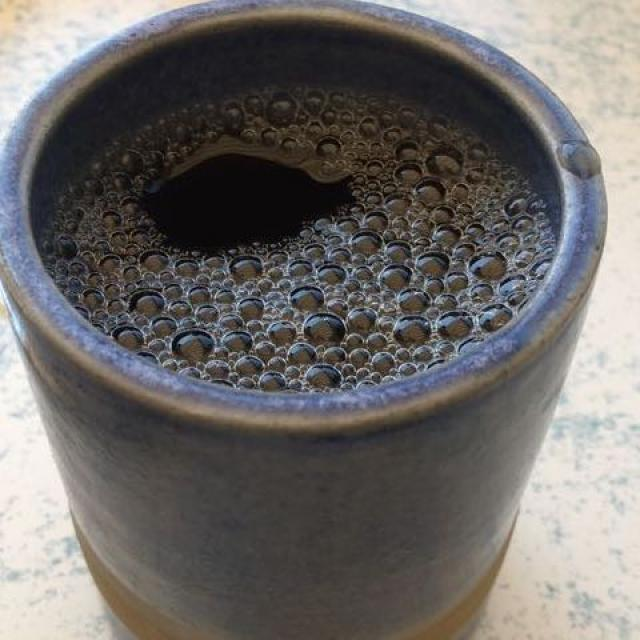tea: (41, 83, 558, 390)
